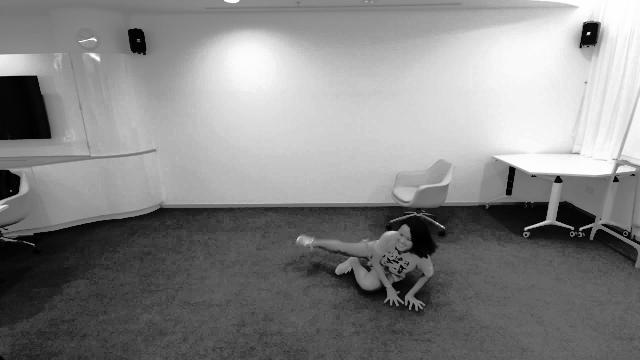jatuh: (290, 205, 440, 321)
